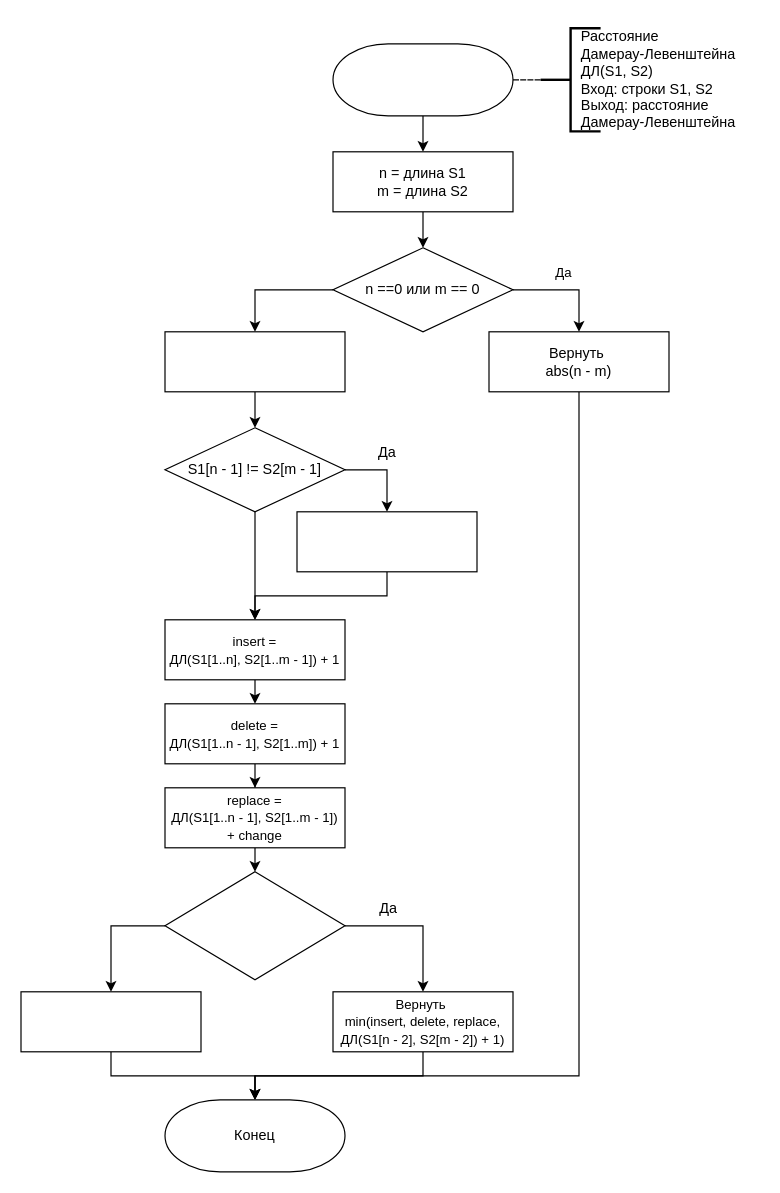
Some shapes in this 780 by 1193 pixel diagram are drawn without their labels. The shapes that lost their labels are listed below. From the top down, each one's centre as x and y in pixels, then its label:
At point 422,79: "Начало".
At point 254,361: "change = 0".
At point 386,541: "change = 1".
At point 254,925: "n > 1 && m > 1 S1[n - 1] == S2[m - 2] && S1[n - 2] == S2[m - 1]".
At point 110,1021: "Вернуть min(insert, delete, replace)".
